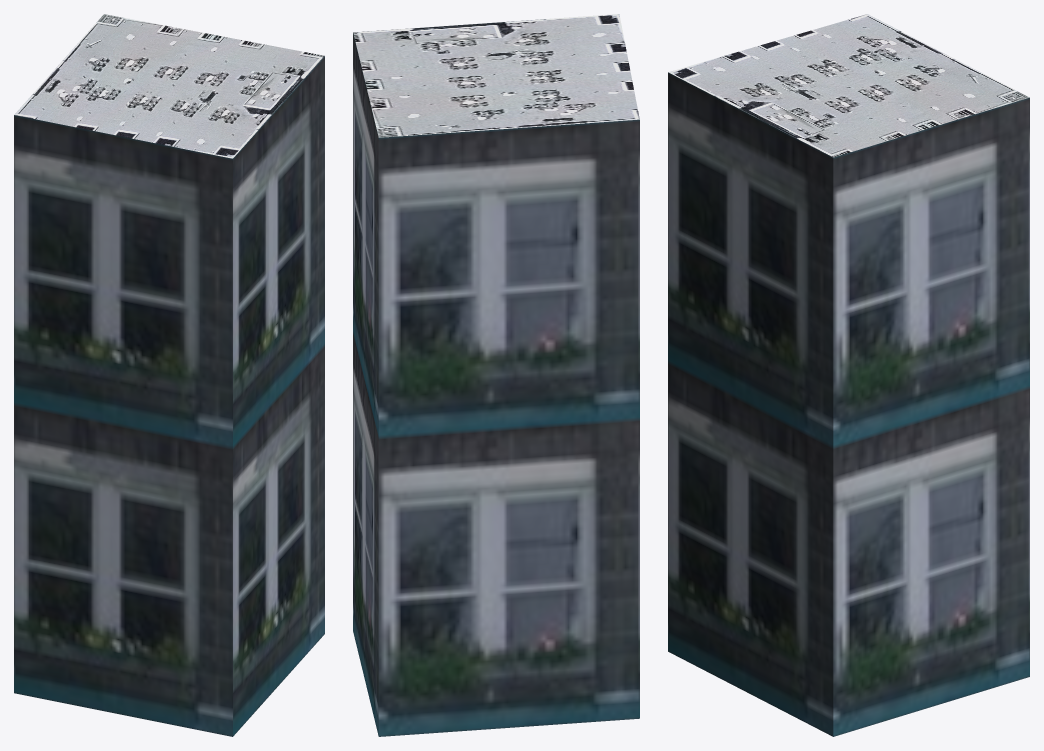
Rendered from ResTex__2874.fbx.
The picture shows the model from 3 angles, left to right: view 1: azimuth 30°, elevation 25°; view 2: azimuth 150°, elevation 25°; view 3: azimuth 270°, elevation 25°; orthographic projection. The views are drawn at different scales.
Parts seen in each view (by area): view 1: CityEngineMaterial_11_m, CityEngineMaterial_8_m; view 2: CityEngineMaterial_11_m, CityEngineMaterial_8_m; view 3: CityEngineMaterial_11_m, CityEngineMaterial_8_m.
Boxes of the visible parts, x1,y1,x2,y2 form: CityEngineMaterial_11_m: (14,56,324,736); CityEngineMaterial_8_m: (14,14,324,158); CityEngineMaterial_11_m: (353,33,639,736); CityEngineMaterial_8_m: (353,14,639,137); CityEngineMaterial_11_m: (668,72,1029,736); CityEngineMaterial_8_m: (668,14,1029,157).
Size of the model in its own units: 3.19 by 6 by 3.4.
Materials: 2 (2 with a texture image).
